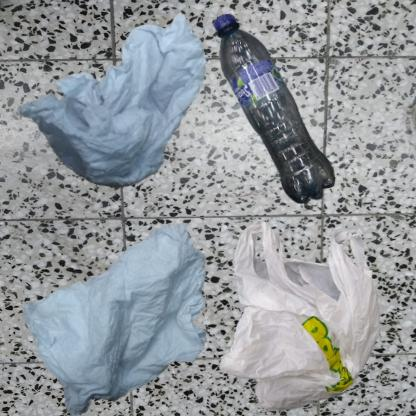bolsa: (213, 213, 398, 416)
botella: (213, 10, 336, 209)
papel: (10, 213, 281, 416), (10, 10, 219, 198)
